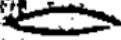Mouth: (3, 6, 120, 35)
